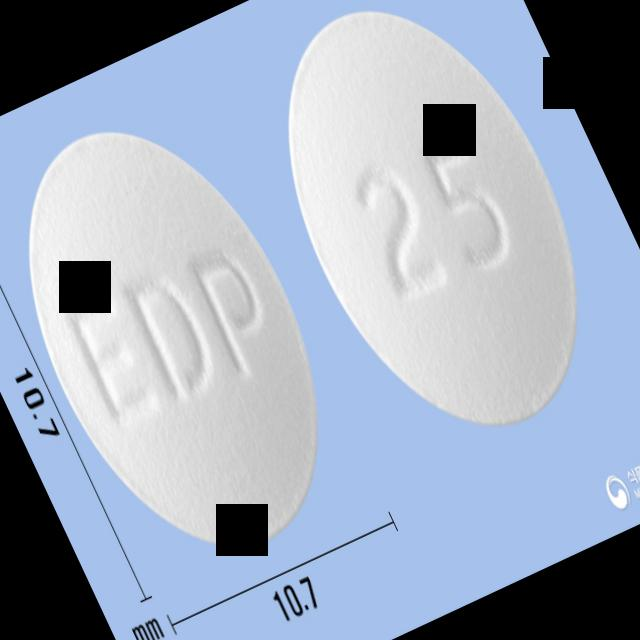Ciflox: (0, 79, 384, 598), (226, 0, 640, 475)
